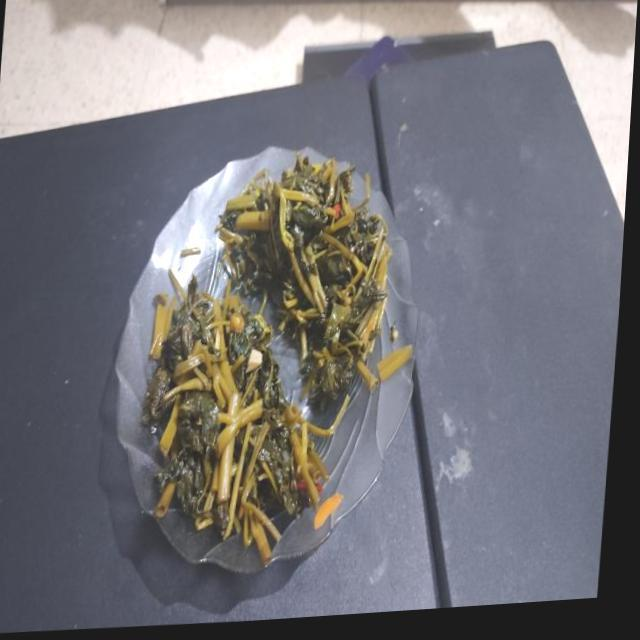tumis_kangkung: (144, 277, 322, 546), (219, 156, 391, 406)
